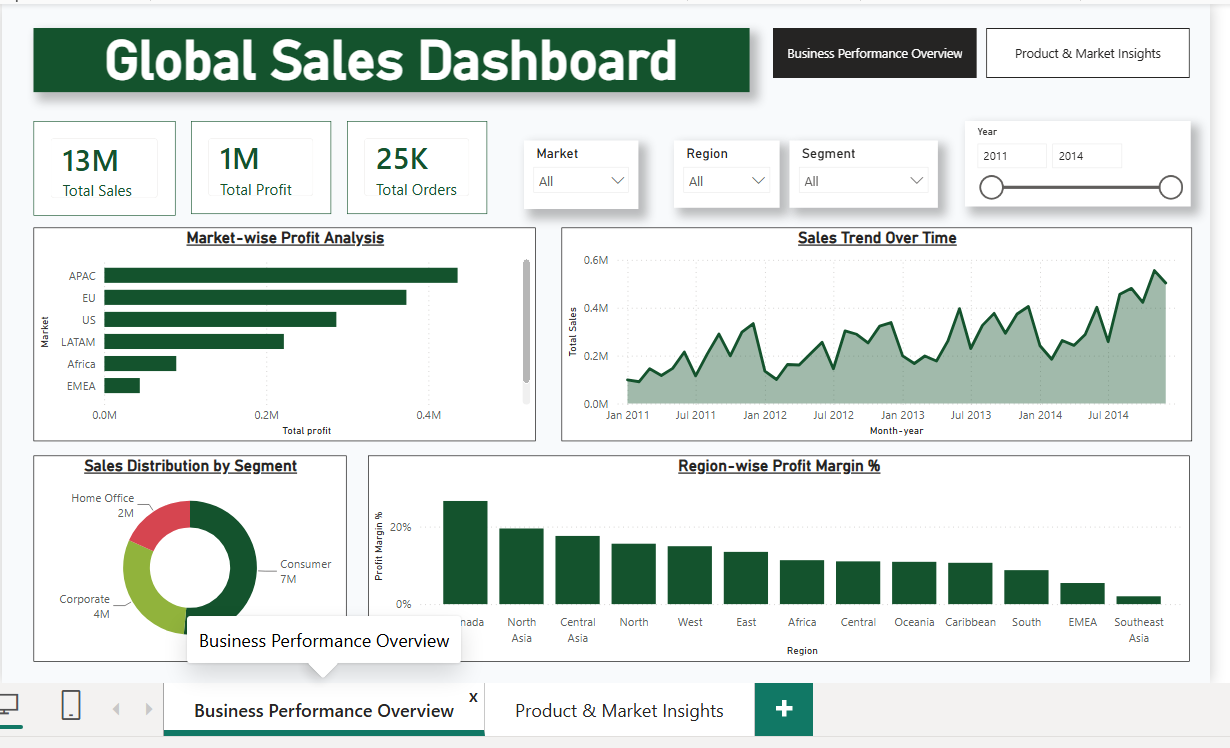

The dashboard page shown, as its layout file describes it:
{"tool":"powerbi","page":{"name":"Business Performance Overview","canvas":[1280,720],"ordinal":0},"visuals":[{"type":"cardVisual","fields":{"Data":["global.Total Sales"]},"box":[34,124.7,150.6,100.4],"z":0},{"type":"cardVisual","fields":{"Data":["global.Total Profit"]},"box":[200.8,124.7,149,98.8],"z":1},{"type":"cardVisual","fields":{"Data":["global.Total Orders"]},"box":[365.9,124.7,149,98.8],"z":2},{"type":"donutChart","title":"Sales Distribution by Segment","fields":{"Y":["Sum(global.Sales)"],"Category":["global.Segment"]},"box":[34,479.3,331.9,218.6],"z":8},{"type":"barChart","title":"Market-wise Profit Analysis","fields":{"Category":["global.Market"],"Y":["Sum(global.Profit)"]},"box":[34,236.4,532.7,226.7],"z":10},{"type":"columnChart","title":"Region-wise Profit Margin %","fields":{"Category":["global.Region"],"Y":["global.Profit Margin %"]},"box":[388.6,479.3,871.1,218.6],"z":11},{"type":"lineChart","title":"Sales Trend Over Time","fields":{"Y":["Sum(global.Sales)"],"Category":["global.Order.Date.Variation.Date Hierarchy.Year","global.Order.Date.Variation.Date Hierarchy.Month"]},"box":[592.6,236.4,668.7,226.7],"z":12},{"type":"slicer","fields":{"Values":["global.Market"]},"box":[553.8,144.1,121.4,72.9],"z":13},{"type":"slicer","fields":{"Values":["global.Region"]},"box":[712.5,144.1,111.7,71.2],"z":14},{"type":"slicer","fields":{"Values":["global.Year"]},"box":[1021.7,124.7,239.6,90.7],"z":15},{"type":"slicer","fields":{"Values":["global.Segment"]},"box":[835.5,144.1,157.1,71.2],"z":16},{"type":"pageNavigator","box":[817.7,25.9,443.7,53.4],"z":17},{"type":"textbox","title":"Global Sales Dashboard","box":[34,25.9,759.4,68],"z":18}]}

Visuals, with their boxes in screenshot pixels (x1, y1, x2, y2):
cardVisual - global.Total Sales: 29/118/172/213
cardVisual - global.Total Profit: 187/118/328/212
cardVisual - global.Total Orders: 344/118/485/212
"Sales Distribution by Segment" donutChart: 29/454/344/661
"Market-wise Profit Analysis" barChart: 29/224/534/439
"Region-wise Profit Margin %" columnChart: 365/454/1191/661
"Sales Trend Over Time" lineChart: 558/224/1192/439
slicer - global.Market: 522/137/637/206
slicer - global.Region: 672/137/778/204
slicer - global.Year: 965/118/1192/204
slicer - global.Segment: 789/137/937/204
pageNavigator: 772/25/1192/75
"Global Sales Dashboard" textbox: 29/25/749/89
